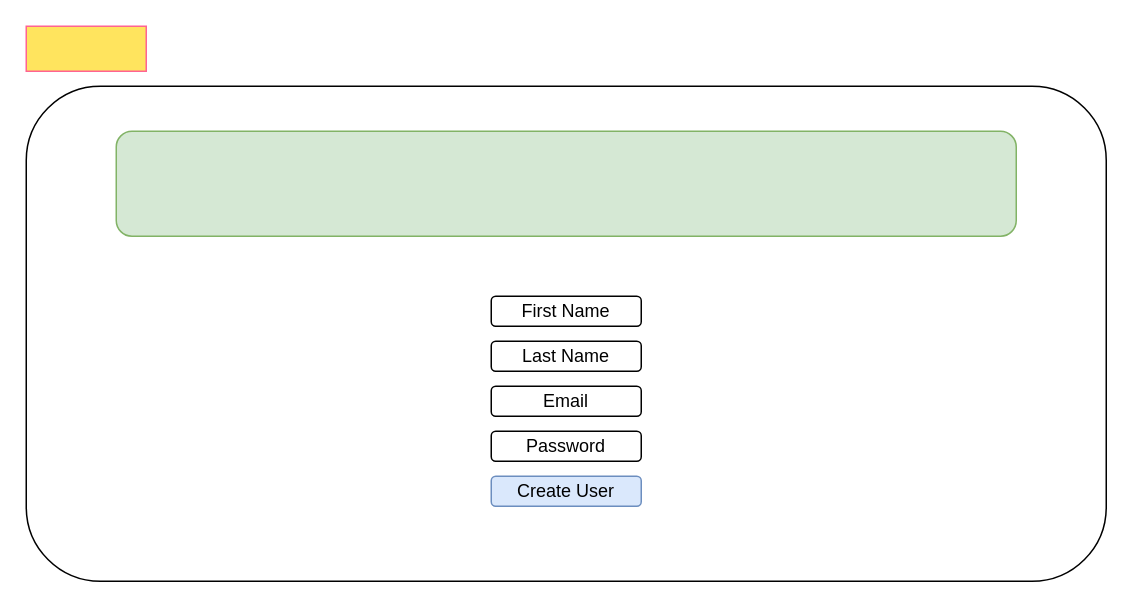
Image size: 1133x608. Some labels were removed from this diagram. The centre of each missing label's shape, as x and y in pixels:
Banner: the point at 565,183
Register page: the point at 85,48
